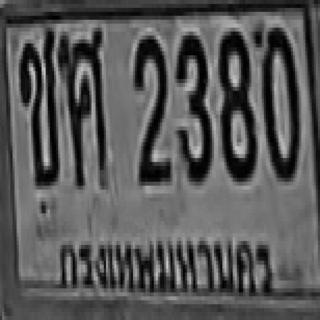A10: (19, 26, 58, 184)
A38: (59, 22, 105, 184)
N00: (260, 24, 297, 178)
N02: (133, 30, 168, 180)
N03: (175, 32, 210, 178)
N08: (218, 28, 253, 178)
P04: (51, 220, 276, 300)
